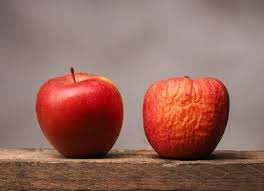apple: (33, 77, 130, 153)
damaged_apple: (142, 78, 230, 163)
